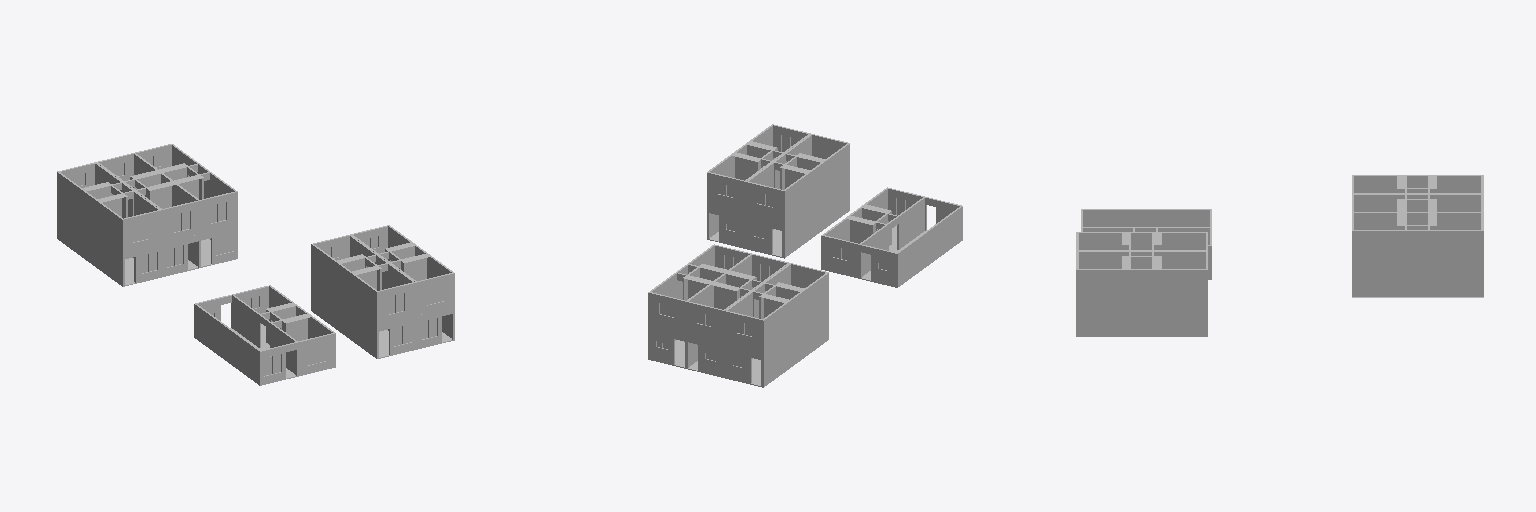
File: Proyecto Arquitectonico.obj
The picture shows the model from 3 angles: view 1: azimuth 30°, elevation 25°; view 2: azimuth 150°, elevation 25°; view 3: azimuth 270°, elevation 25°; orthographic projection.
Parts seen in each view (by area): view 1: Mesh45 Group1 Model, Mesh213 Group53 Model, Mesh153 Group37 Model, Mesh78 Group16 Model, Mesh288 Group74 Model, Mesh183 Group45 Model, Mesh106 Group24 Model, Mesh253 Group65 Model, Mesh321 Model, Mesh322 Model, Mesh316 Group82 Model; view 2: Mesh45 Group1 Model, Mesh153 Group37 Model, Mesh213 Group53 Model, Mesh78 Group16 Model, Mesh183 Group45 Model, Mesh288 Group74 Model, Mesh253 Group65 Model, Mesh106 Group24 Model, Mesh316 Group82 Model, Mesh321 Model, Mesh322 Model; view 3: Mesh78 Group16 Model, Mesh288 Group74 Model, Mesh316 Group82 Model, Mesh321 Model, Mesh45 Group1 Model, Mesh153 Group37 Model, Mesh213 Group53 Model, Mesh183 Group45 Model.
Part boxes in pixels (left/top/right/bottom): Mesh45 Group1 Model: left=194, top=285, right=335, bottom=385; Mesh213 Group53 Model: left=57, top=162, right=161, bottom=253; Mesh153 Group37 Model: left=311, top=235, right=415, bottom=325; Mesh78 Group16 Model: left=350, top=225, right=454, bottom=315; Mesh288 Group74 Model: left=135, top=144, right=237, bottom=233; Mesh183 Group45 Model: left=96, top=153, right=198, bottom=242; Mesh106 Group24 Model: left=311, top=278, right=415, bottom=358; Mesh253 Group65 Model: left=57, top=206, right=161, bottom=286; Mesh321 Model: left=416, top=306, right=454, bottom=349; Mesh322 Model: left=162, top=234, right=200, bottom=276; Mesh316 Group82 Model: left=201, top=225, right=237, bottom=267; Mesh45 Group1 Model: left=821, top=187, right=962, bottom=287; Mesh153 Group37 Model: left=746, top=134, right=849, bottom=224; Mesh213 Group53 Model: left=725, top=263, right=828, bottom=354; Mesh78 Group16 Model: left=707, top=124, right=810, bottom=215; Mesh183 Group45 Model: left=686, top=253, right=789, bottom=344; Mesh288 Group74 Model: left=648, top=244, right=750, bottom=335; Mesh253 Group65 Model: left=725, top=307, right=828, bottom=387; Mesh106 Group24 Model: left=746, top=178, right=849, bottom=258; Mesh316 Group82 Model: left=648, top=327, right=686, bottom=368; Mesh321 Model: left=707, top=207, right=745, bottom=248; Mesh322 Model: left=687, top=336, right=724, bottom=377; Mesh78 Group16 Model: left=1076, top=251, right=1207, bottom=302; Mesh288 Group74 Model: left=1352, top=213, right=1483, bottom=263; Mesh316 Group82 Model: left=1352, top=264, right=1483, bottom=297; Mesh321 Model: left=1076, top=303, right=1207, bottom=336; Mesh45 Group1 Model: left=1081, top=209, right=1211, bottom=279; Mesh153 Group37 Model: left=1076, top=232, right=1207, bottom=250; Mesh213 Group53 Model: left=1352, top=175, right=1483, bottom=193; Mesh183 Group45 Model: left=1352, top=194, right=1483, bottom=212.
Bounding box in the file's own units: 15.37 × 5.07 × 27.84.